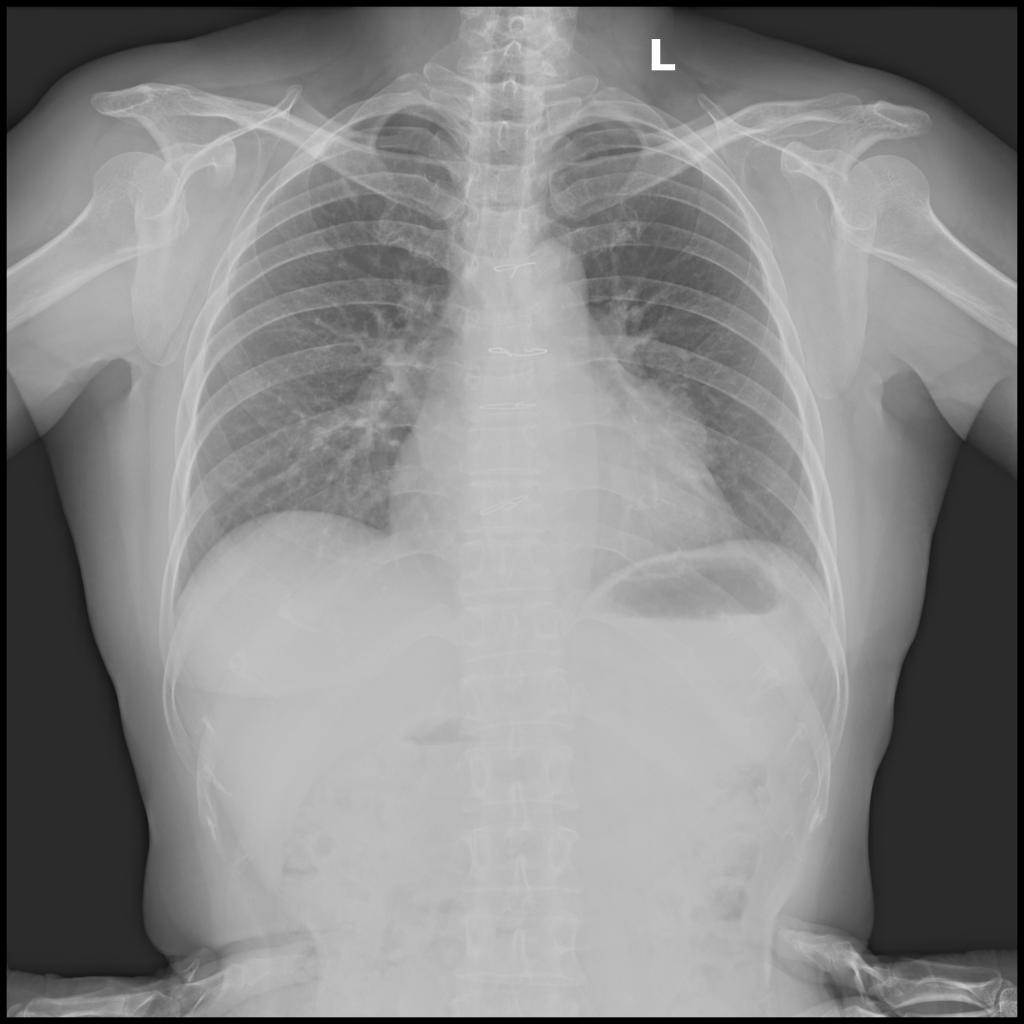Nodule: (601, 383, 713, 511)
